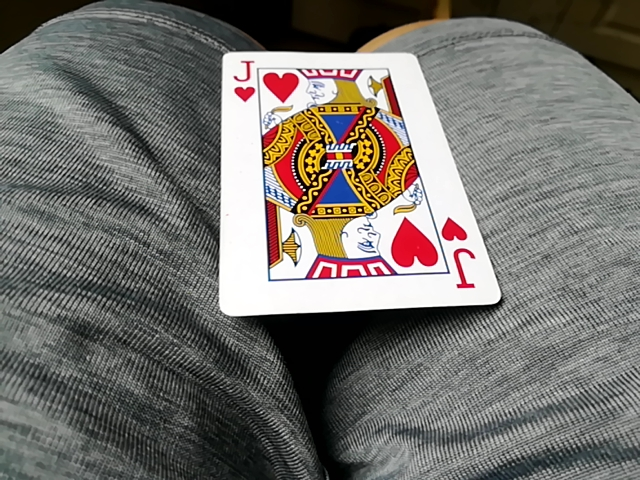hx j: (218, 49, 493, 320)
